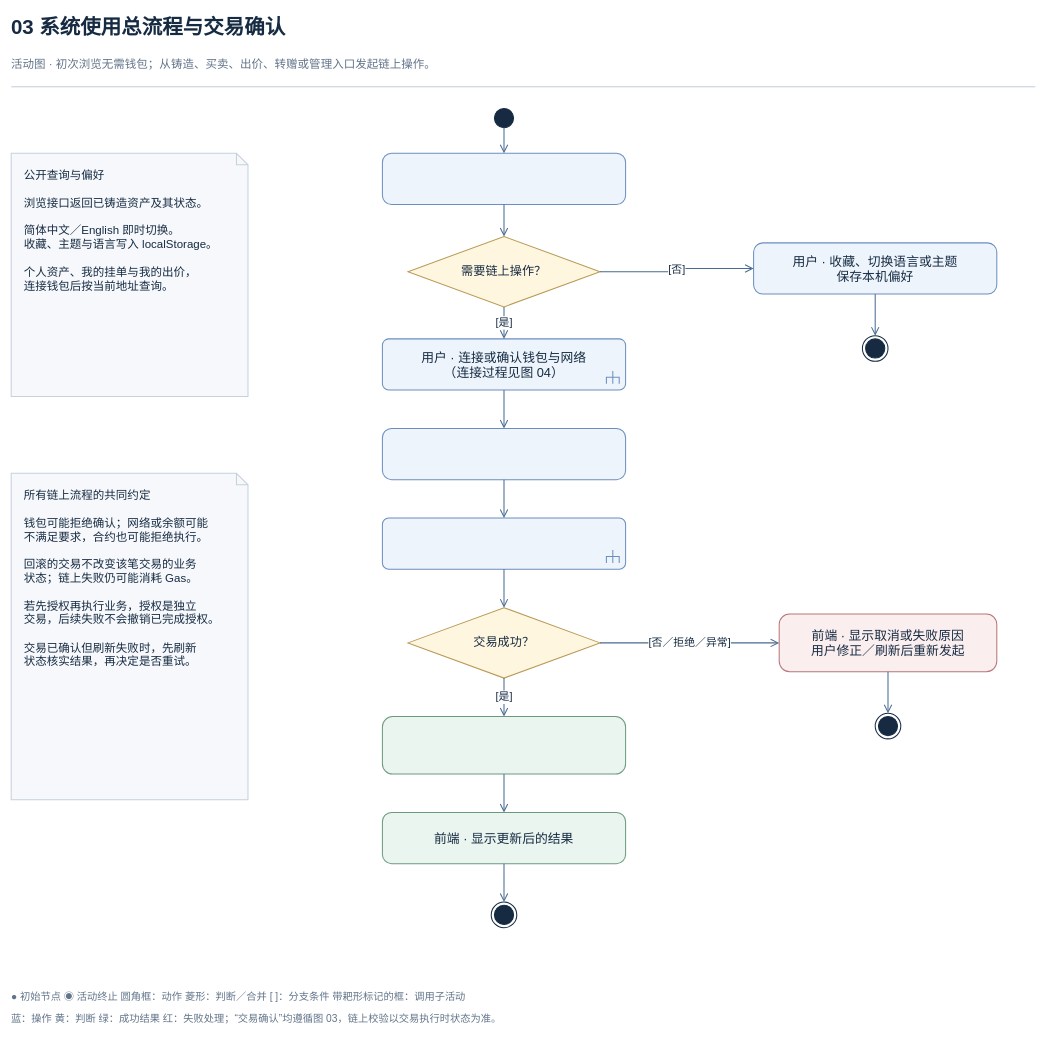
Image size: 1046x1037. Some labels were removed from this diagram. The shapes that lost their labels are listed below. From the top down, each one's centre as x and y in pixels, then its label:
[504,178]: 用户 · 浏览市场、详情和动态 搜索／筛选／排序／分页
[504,454]: 用户 · 选择功能并核对参数 （业务规则见图 05—12）
[504,543]: 钱包 · 确认并提交交易 等待交易回执
[504,745]: 前端 · 请求刷新；Express 同步索引 重新读取资产、余额与市场状态
